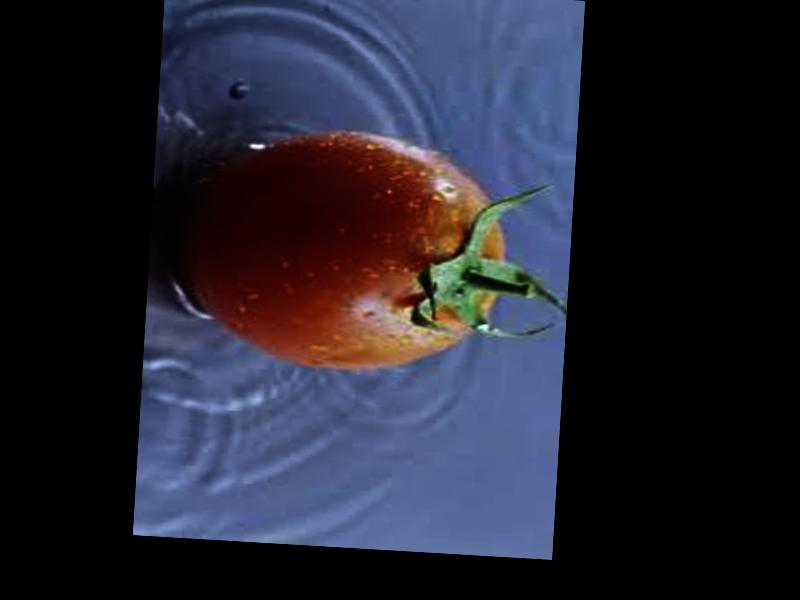Tomato: (171, 125, 509, 377)
